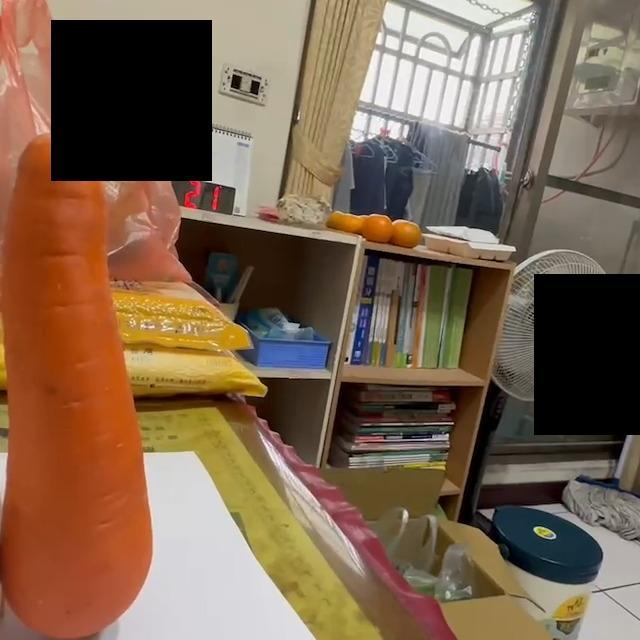carrot: (1, 126, 156, 637)
